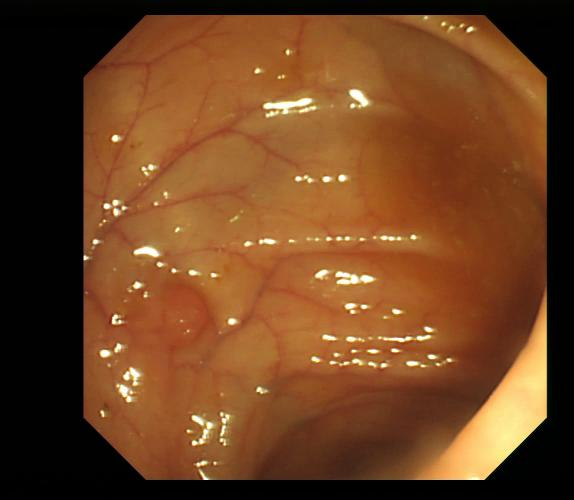polyp: (151, 278, 211, 351)
